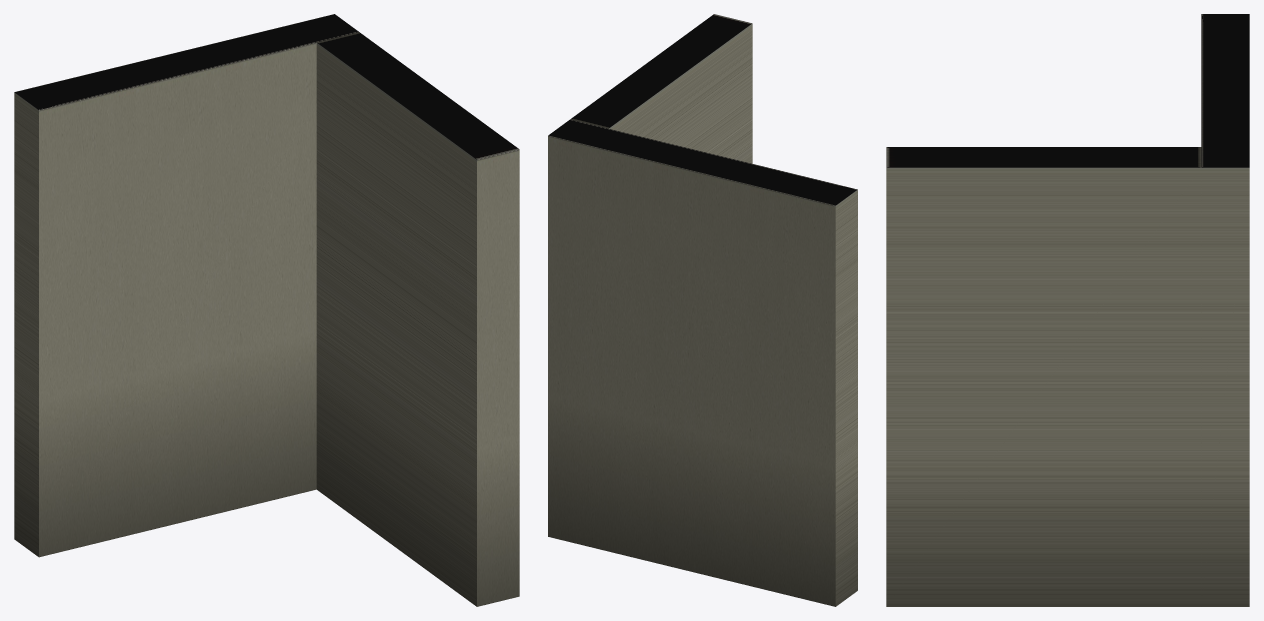
Rendered from wall_corner.glb.
3 renders of one model, left to right at view 1: azimuth 30°, elevation 25°; view 2: azimuth 150°, elevation 25°; view 3: azimuth 270°, elevation 25°, orthographic. The views are drawn at different scales.
Visible parts, largest first — view 1: wall_corner-col; view 2: wall_corner-col; view 3: wall_corner-col.
Boxes of the visible parts, <box> form: wall_corner-col: <box>14,14,519,606</box>; wall_corner-col: <box>548,14,857,606</box>; wall_corner-col: <box>886,14,1249,606</box>.
Size of the model in its own units: 1.5 by 2 by 1.5.
Materials: 1 (1 with a texture image).
